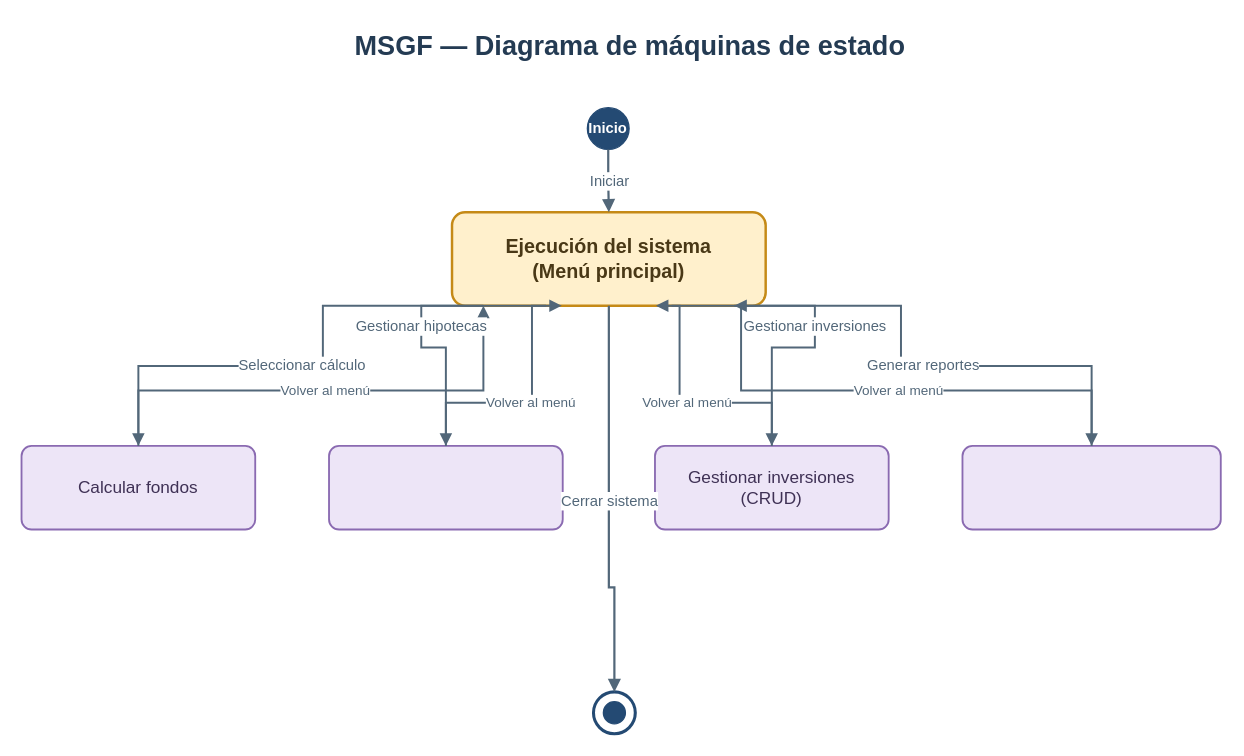
The diagram is 1244 pixels wide and 756 high, and some of its shapes have lost their labels. Here are the shapes that lost their labels. From the top down, the centre of each, then its label:
At pixel 445 487: "Gestionar hipotecas (CRUD)".
At pixel 1091 487: "Generar e imprimir reportes".
